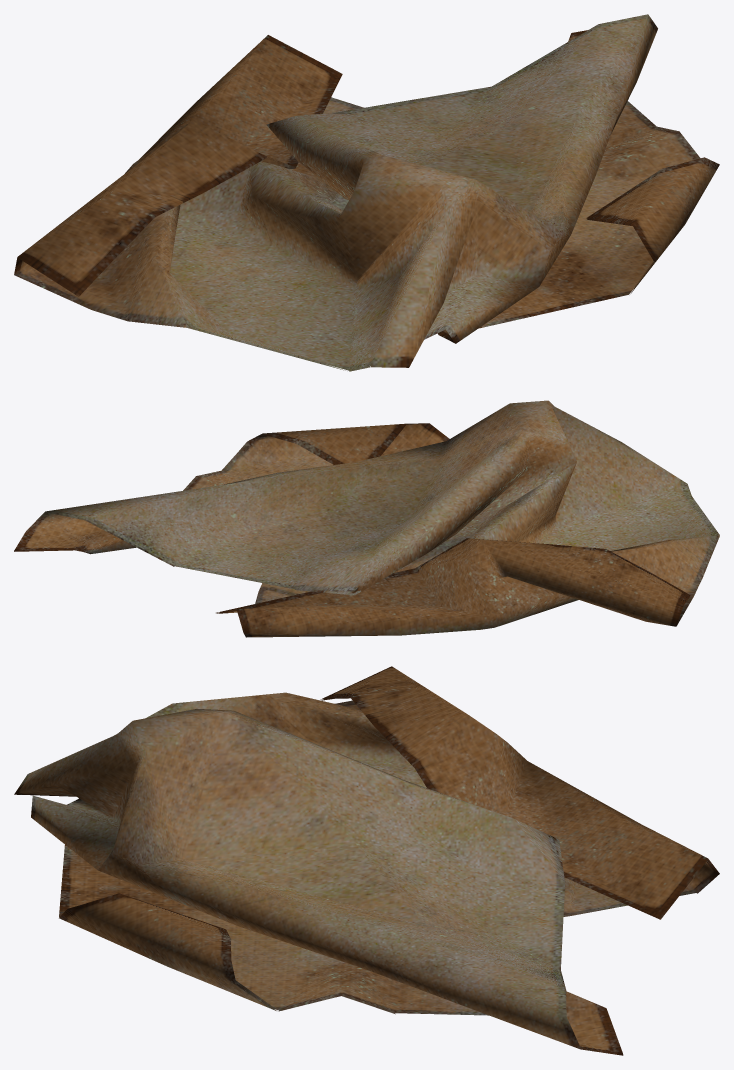
Rendered from TowelC.fbx.
3 renders of one model, top to bottom at view 1: azimuth 30°, elevation 25°; view 2: azimuth 150°, elevation 25°; view 3: azimuth 270°, elevation 25°, orthographic. The views are drawn at different scales.
Parts seen in each view (by area): view 1: TowelC; view 2: TowelC; view 3: TowelC.
Part boxes in pixels (x1=…): TowelC: x1=14, y1=14, x2=719, y2=371; TowelC: x1=14, y1=400, x2=719, y2=637; TowelC: x1=14, y1=666, x2=719, y2=1055.
Size of the model in its own units: 67.96 by 10.7 by 55.63.
